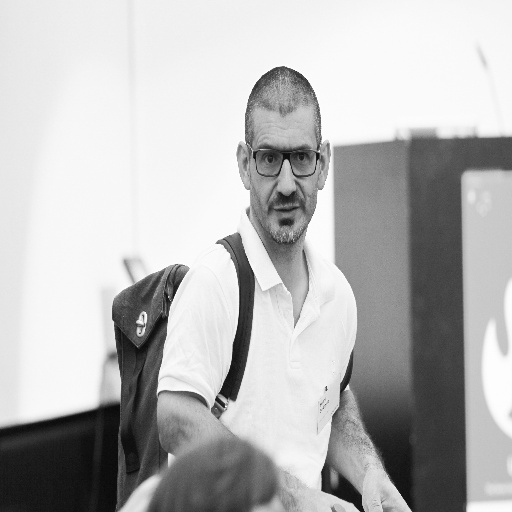hand: (358, 460, 411, 511), (293, 489, 358, 511)
